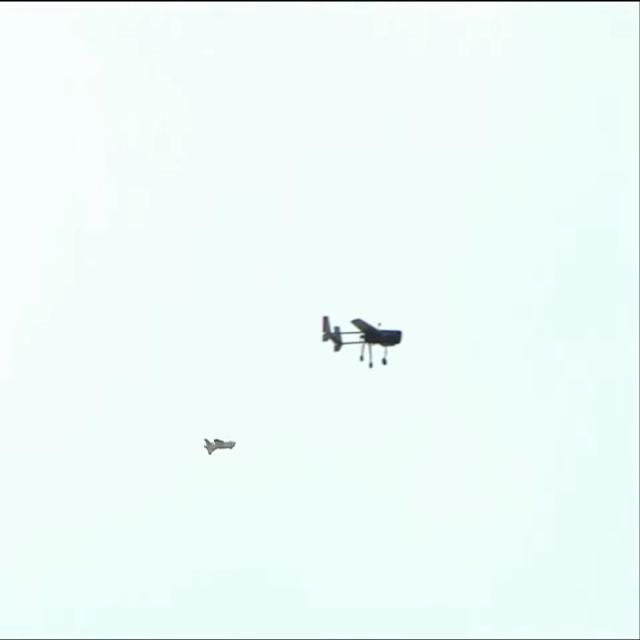iha: (353, 313, 371, 370)
